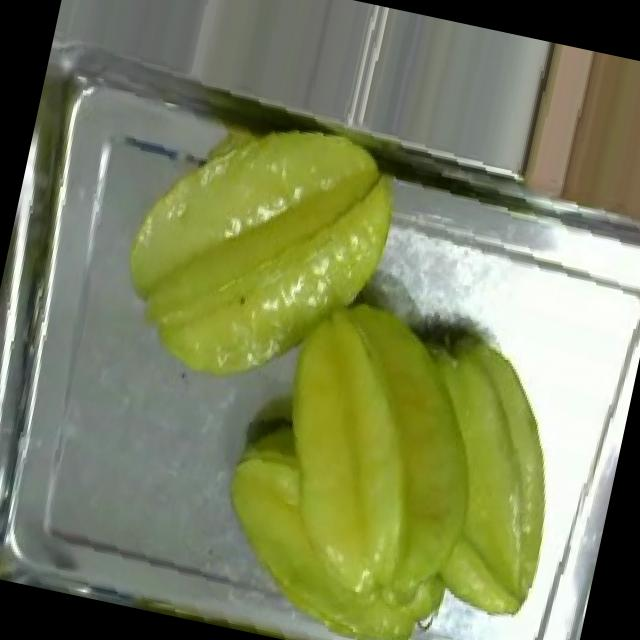fruit: (192, 265, 612, 640), (90, 82, 422, 420), (480, 36, 640, 268)
